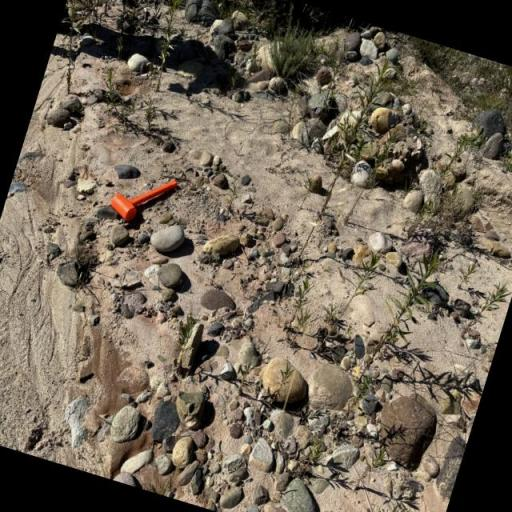mallet: (107, 164, 178, 232)
